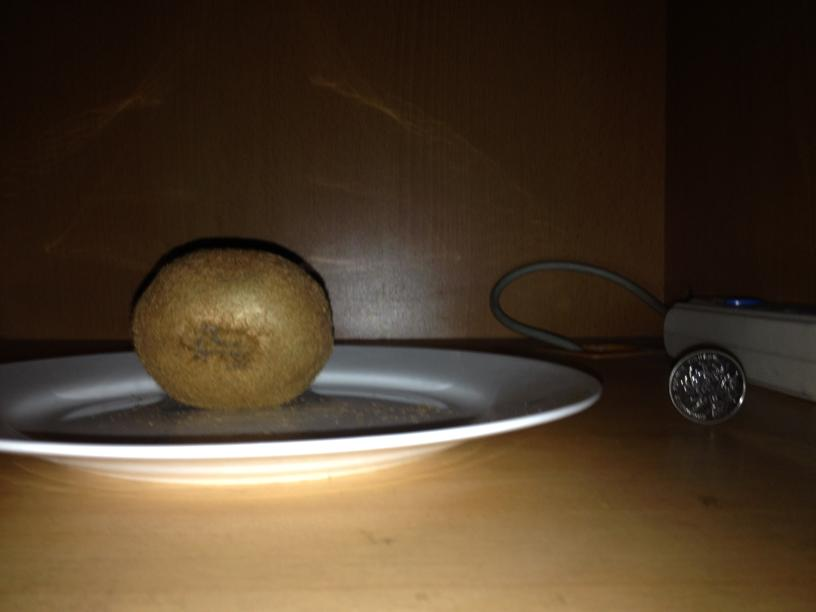coin: (670, 348, 747, 427)
qiwi: (632, 365, 707, 422)
